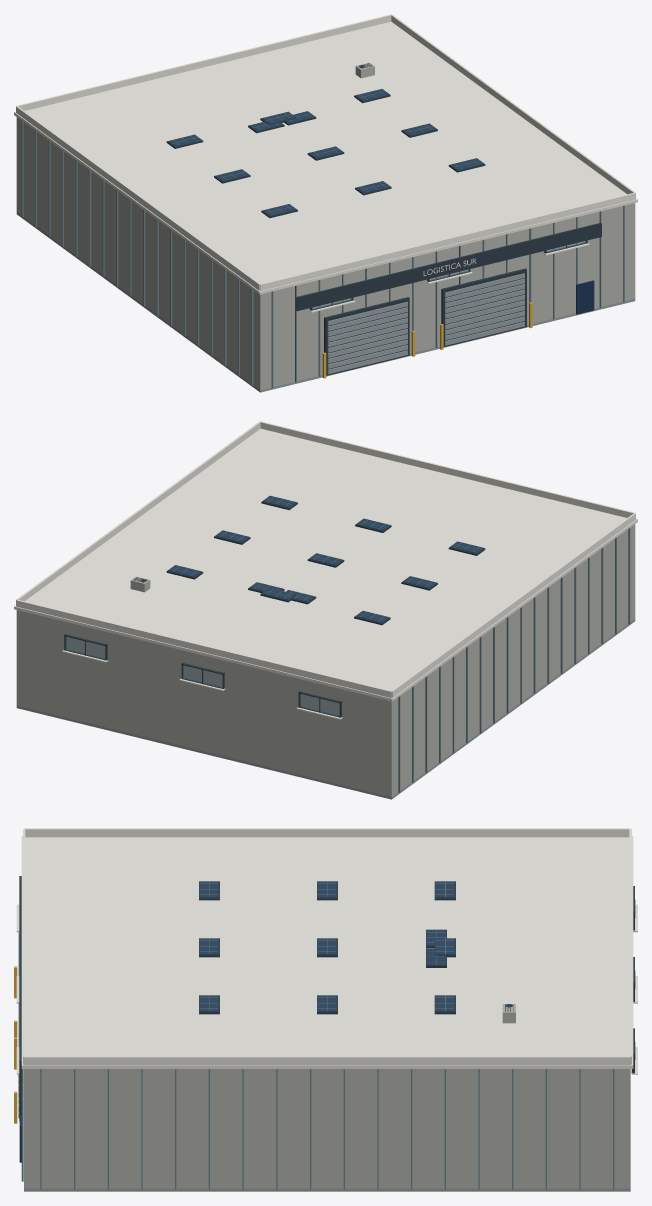
File: Warehouse_0.fbx
3 views of the same model, one above another, from view 1: azimuth 30°, elevation 25°; view 2: azimuth 150°, elevation 25°; view 3: azimuth 270°, elevation 25° (orthographic). The views are drawn at different scales.
Parts seen in each view (by area): view 1: Warehouse_0; view 2: Warehouse_0; view 3: Warehouse_0.
Boxes of the visible parts, <box> form: Warehouse_0: <box>14,14,637,392</box>; Warehouse_0: <box>14,421,637,799</box>; Warehouse_0: <box>14,828,637,1191</box>.
Size of the model in its own units: 32.3 by 9.07 by 37.04.
